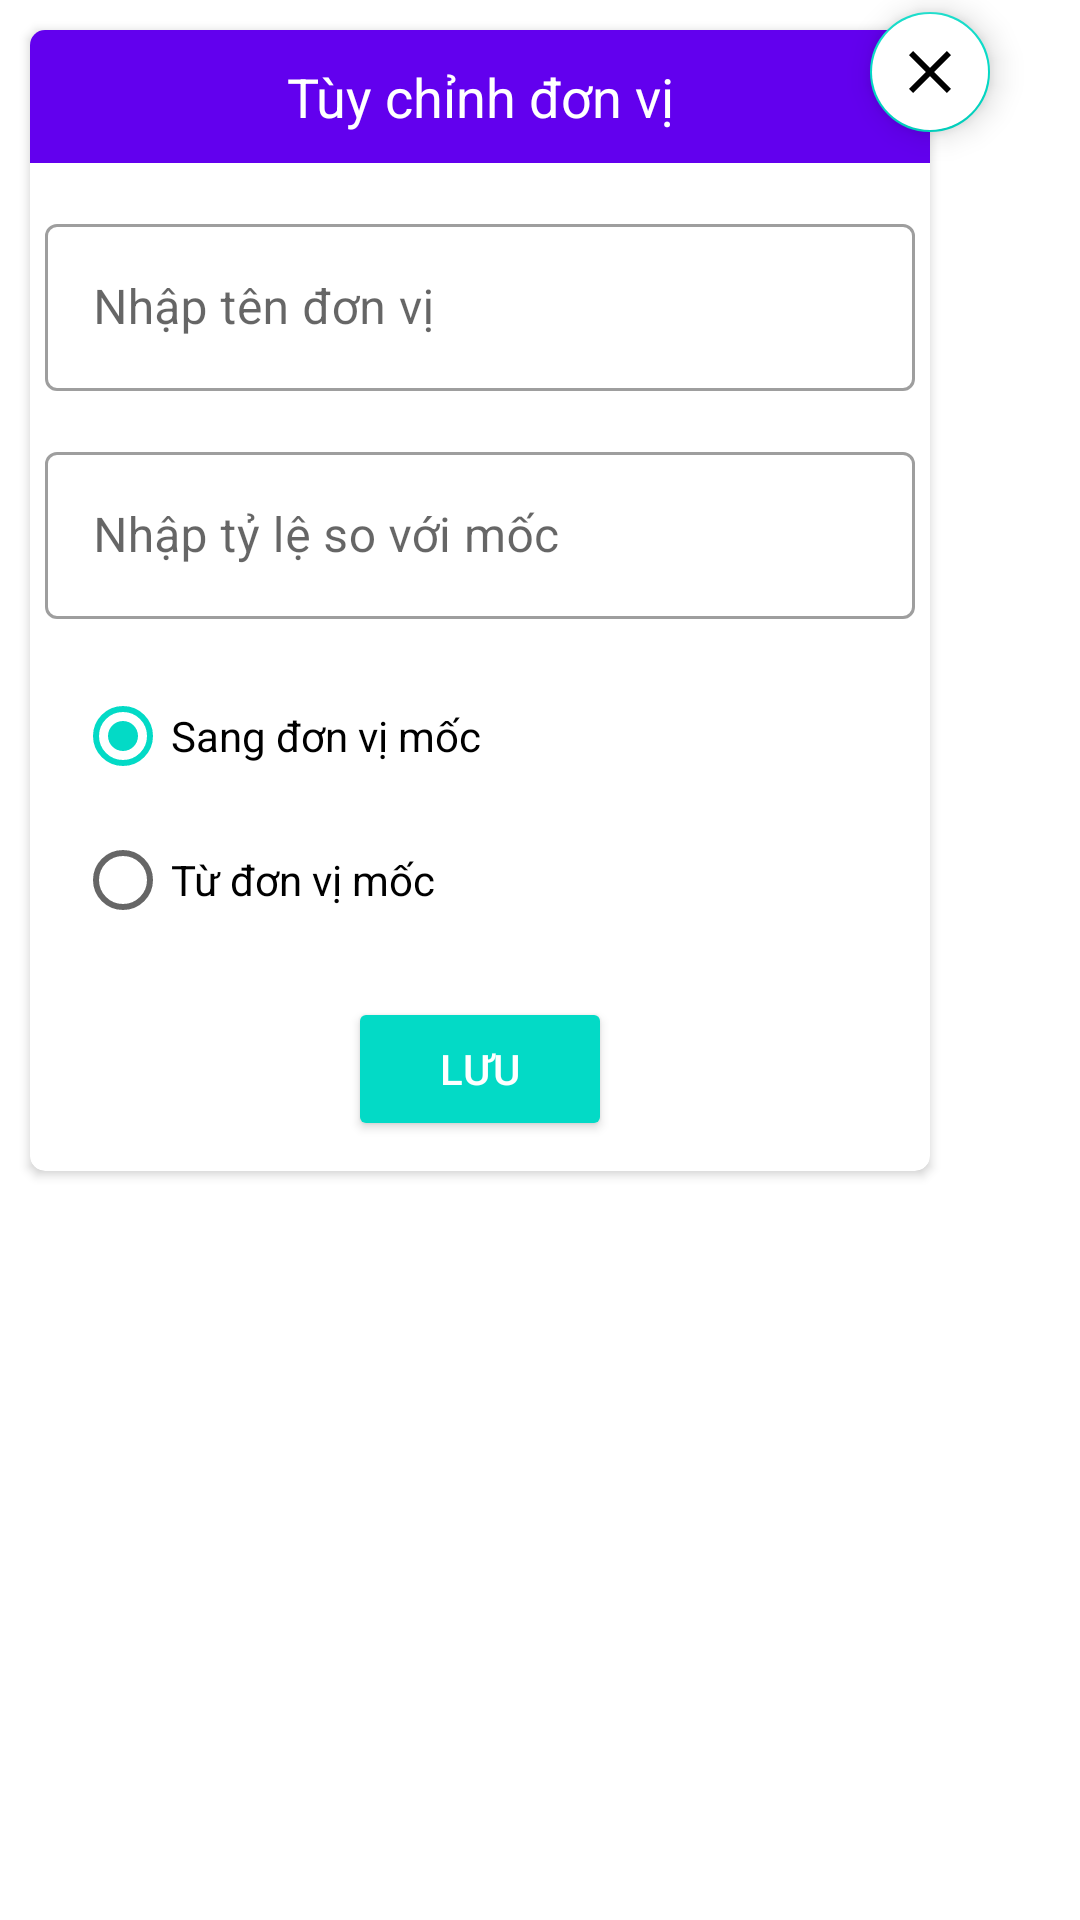

Icon click points for this 1080px×1920px phone screenshot, format (x=x, y=y):
close: (x=930, y=72)
